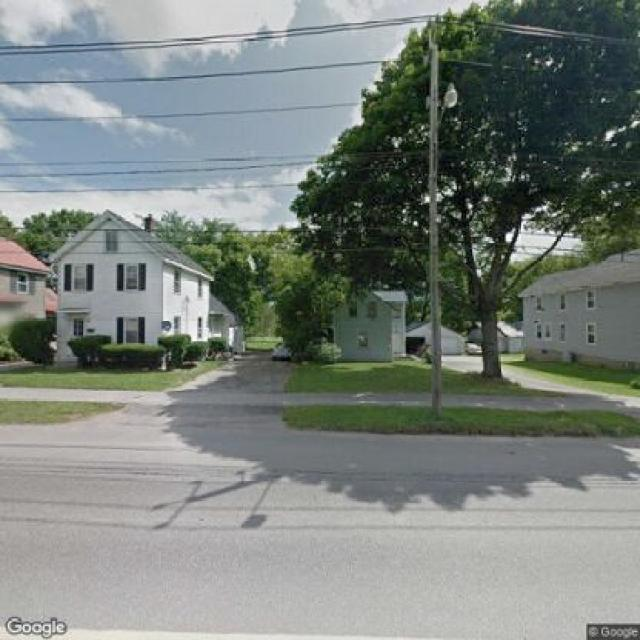pole: (428, 17, 445, 417)
wire: (0, 18, 639, 56), (0, 14, 436, 50), (0, 56, 541, 85), (0, 149, 640, 167), (0, 226, 640, 241), (0, 102, 360, 122), (0, 160, 317, 178), (0, 183, 298, 193)
